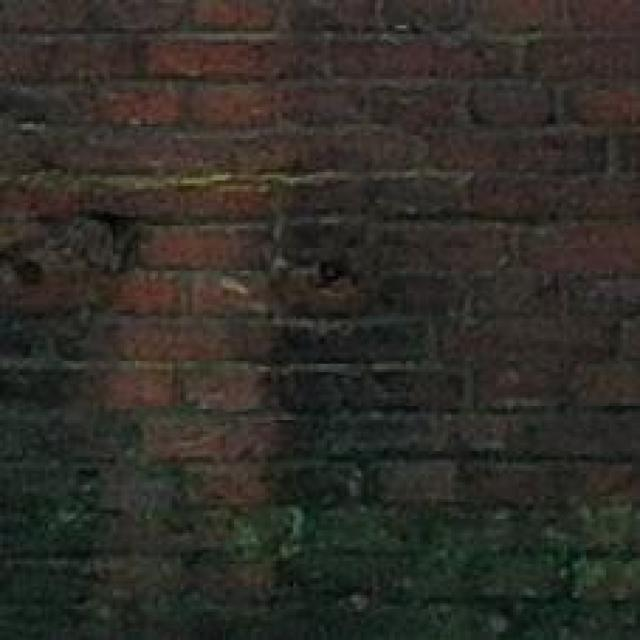Crack: (0, 77, 256, 534)
